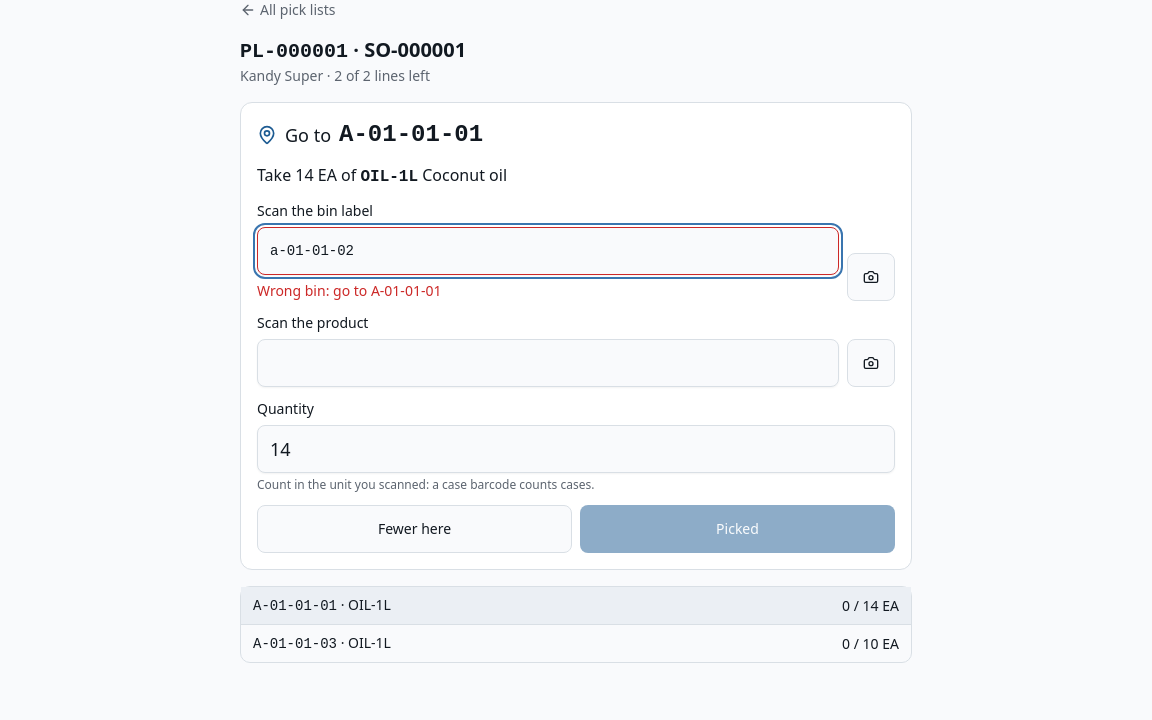
walks the list: scan the bin and product, confirm, then mark the next line short after taking what was there
Earlier steps of the test are not shown.
Expected: the text "Wrong bin: go to A-01-01-01" is shown, [257,281,441,300]
Expected: the button "Picked" is disabled, [580,505,895,553]
Replace the text in the field labelled "Scan the bin label" with "a-01-01-01" at (548, 251), box [257,227,839,275]
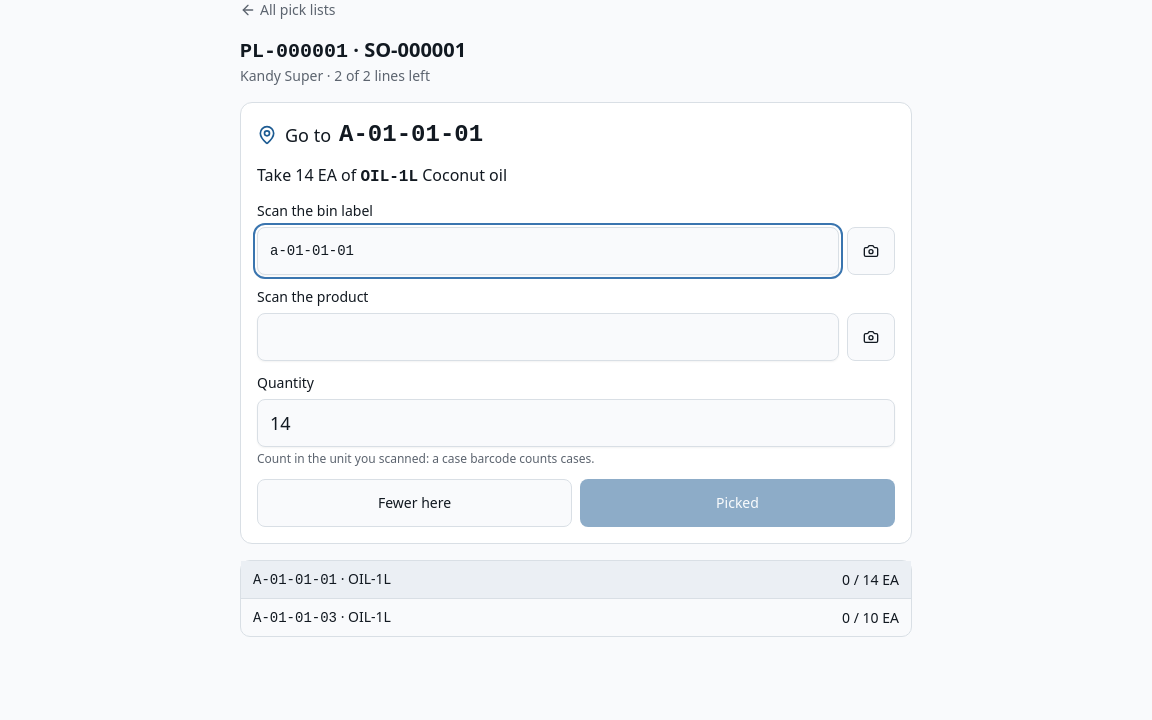
Type "4791" into the field labelled "Scan the product" at (548, 337), box [257,313,839,361]
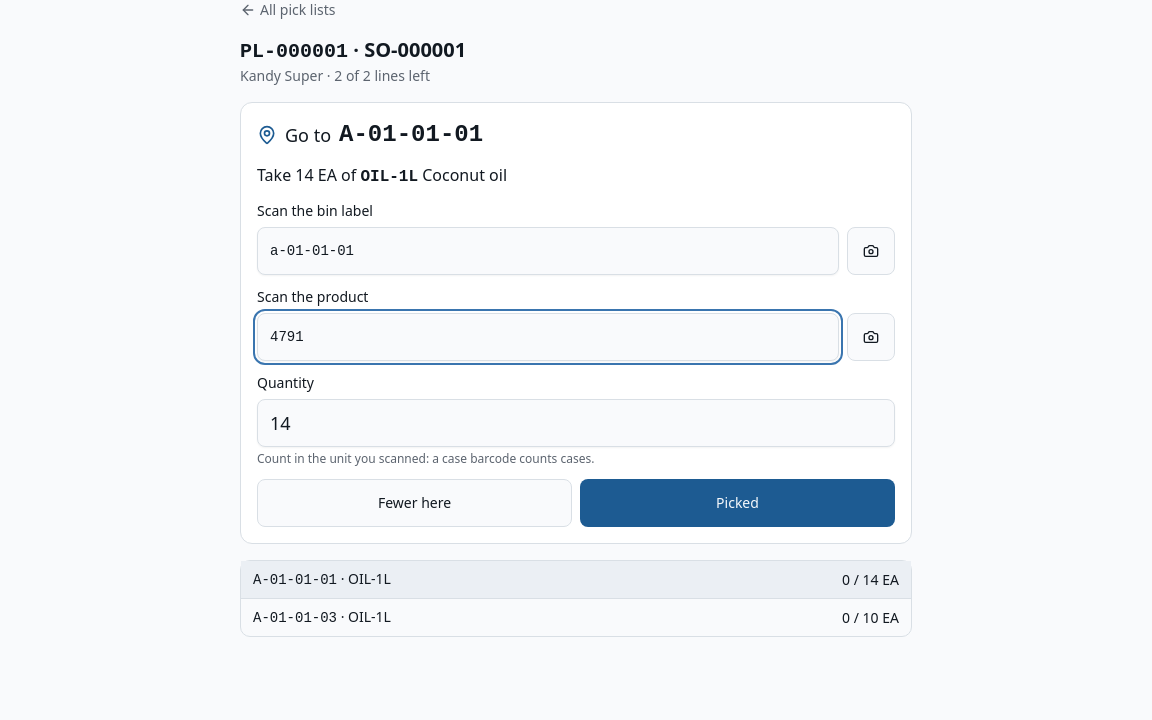
Expected: the field labelled "Quantity" holds "14", [257,399,895,447]
Click the button "Picked" at (738, 503), box [580,479,895,527]
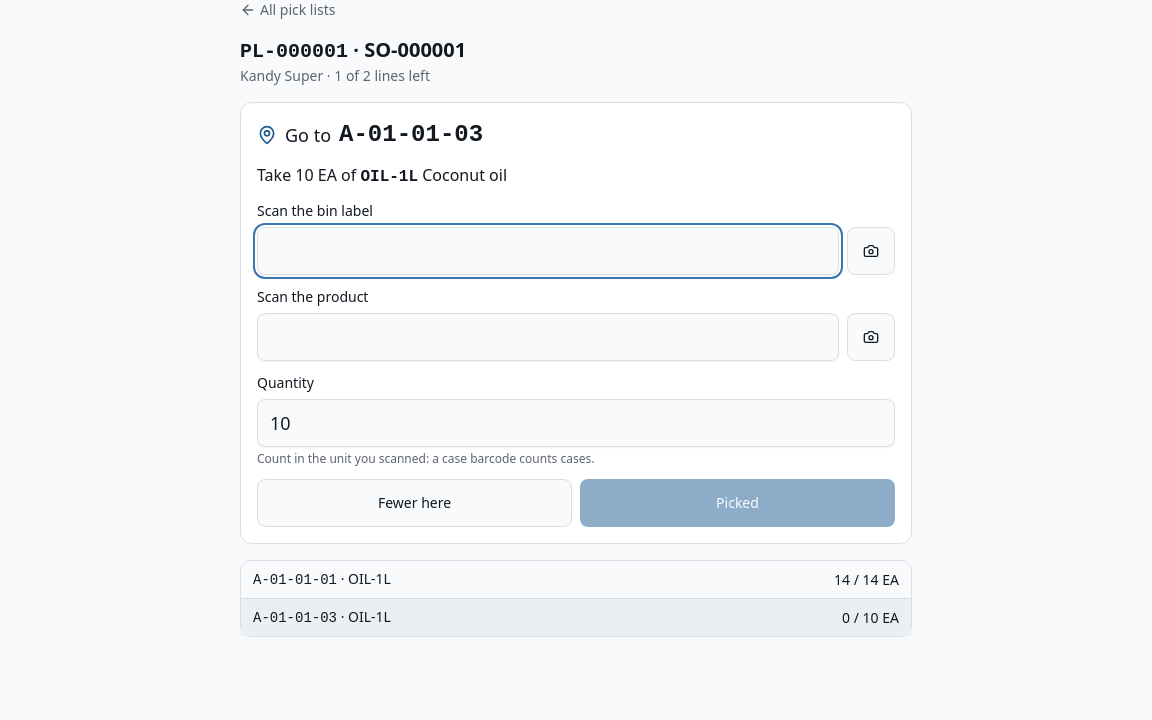
Now the text "A-01-01-03" next to "Go to" is shown, box [339,121,483,148]
Click the button "Fewer here" at (414, 503), box [257,479,572,527]
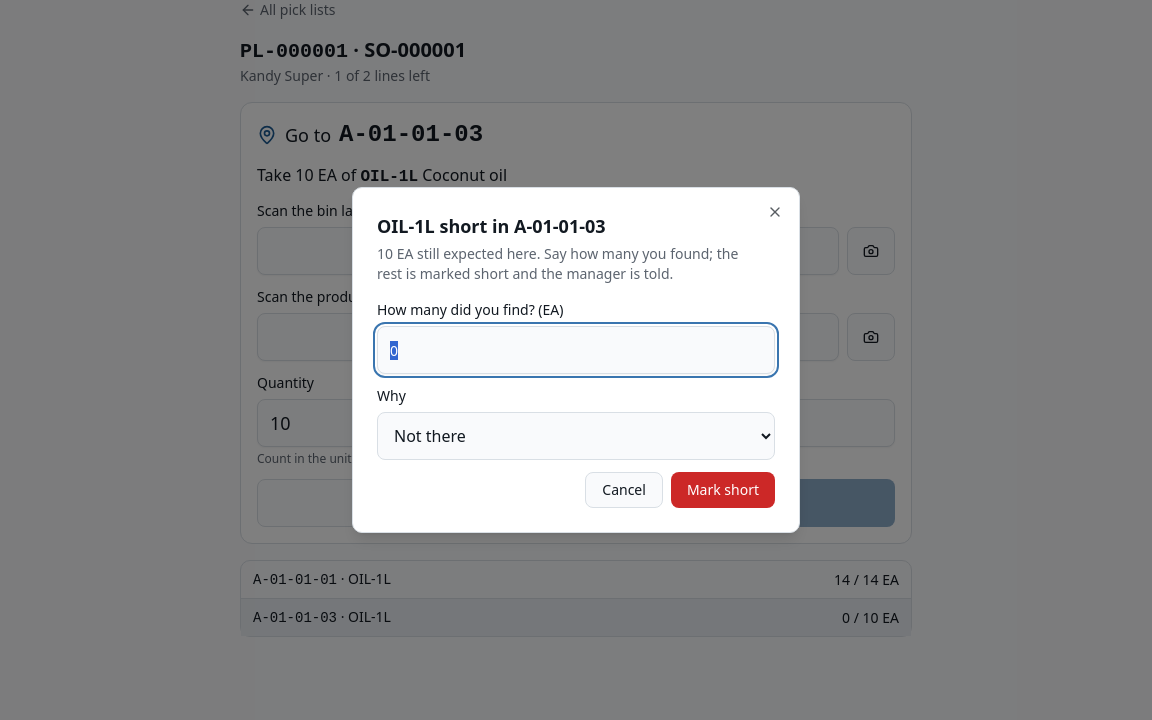
Replace the text in the field labelled "How many did you find? (EA)" with "4" at (576, 350), box [377,326,775,374]
Select "Damaged" in the dropdown labelled "Why" at (576, 436), box [377,412,775,460]
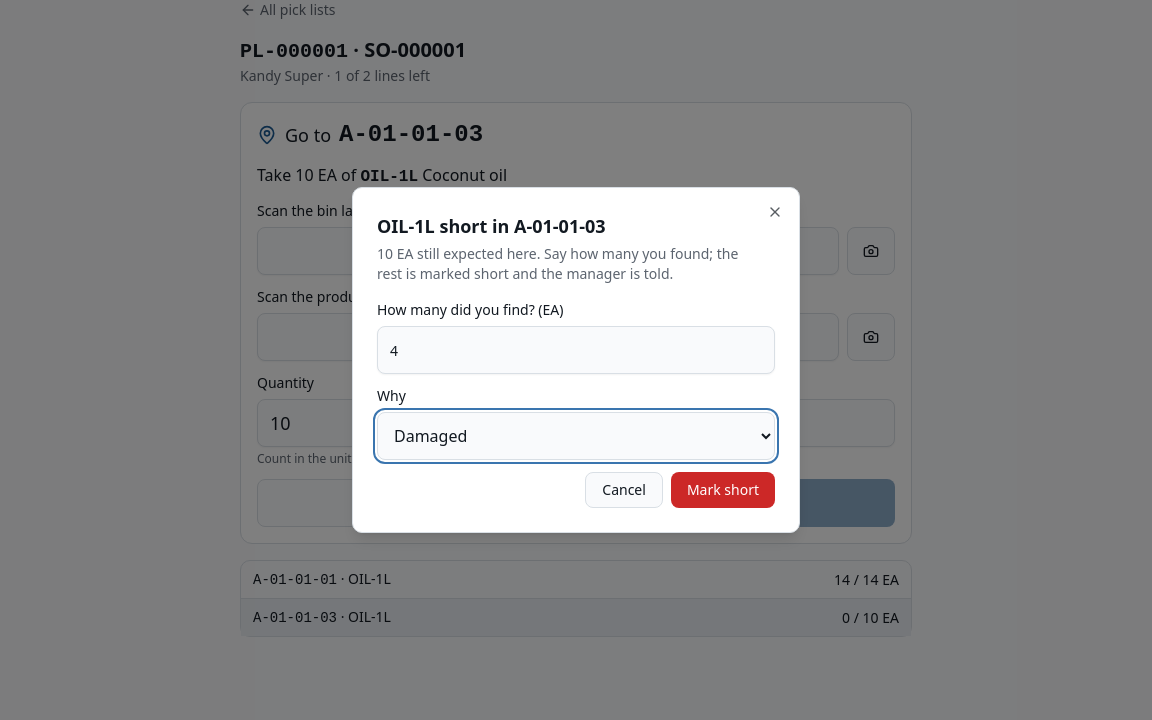
Click the button "Mark short" at (723, 490), box [671,472,775,508]
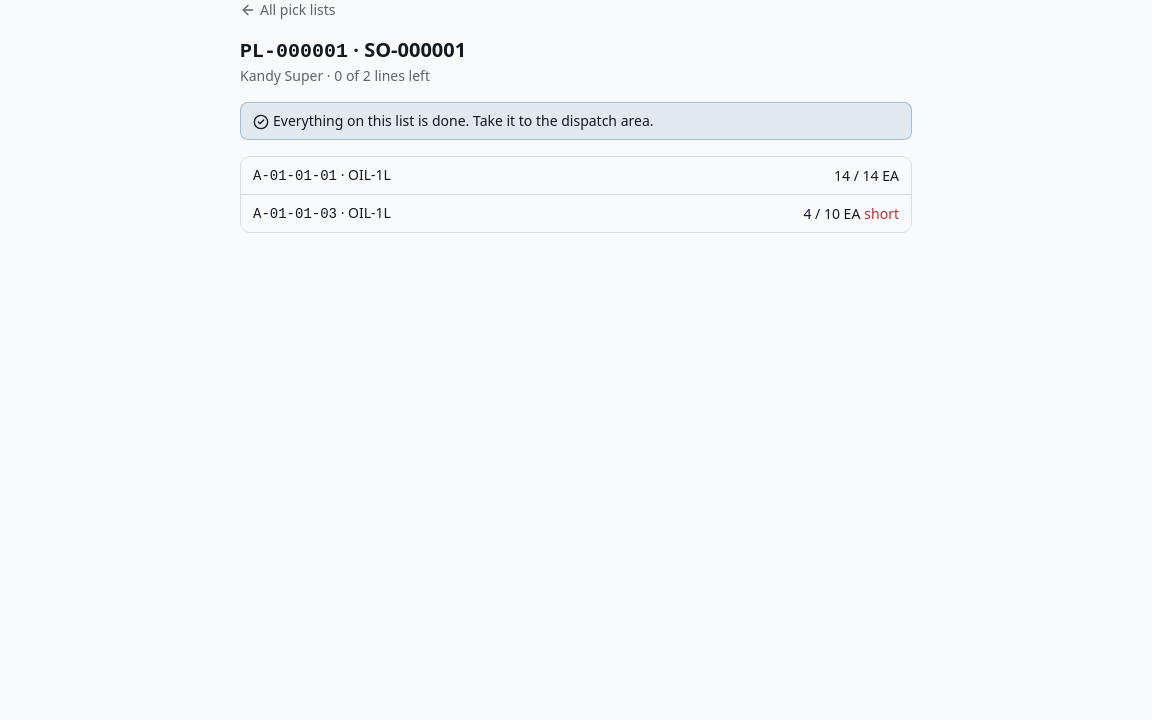
Now the text "Everything on this list is done. Take it to the dispatch area." is shown, box [240,102,912,140]
